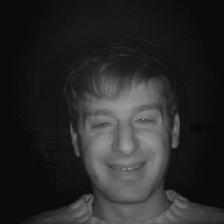happy: (54, 47, 191, 202)
